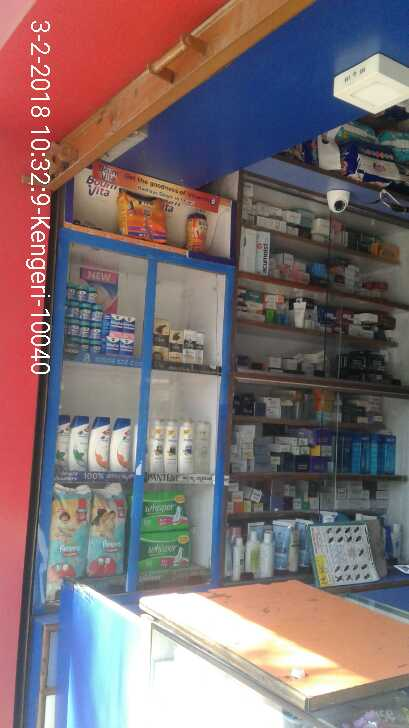beauty: (110, 413, 132, 470), (88, 416, 110, 470), (162, 416, 181, 478), (196, 418, 214, 481), (148, 313, 171, 362), (179, 420, 197, 479), (146, 422, 164, 480), (71, 411, 88, 471), (182, 326, 205, 362), (58, 415, 71, 473), (169, 322, 181, 367)
pharmacy: (48, 487, 92, 594), (86, 487, 128, 578), (135, 534, 200, 578), (139, 488, 192, 532), (120, 332, 138, 357), (110, 306, 123, 335), (64, 296, 80, 317), (121, 313, 137, 333), (91, 321, 105, 342), (105, 333, 119, 353), (87, 287, 101, 306), (90, 305, 106, 321), (69, 315, 81, 336), (79, 323, 91, 340), (80, 301, 90, 318), (64, 282, 74, 296), (76, 285, 85, 299)
